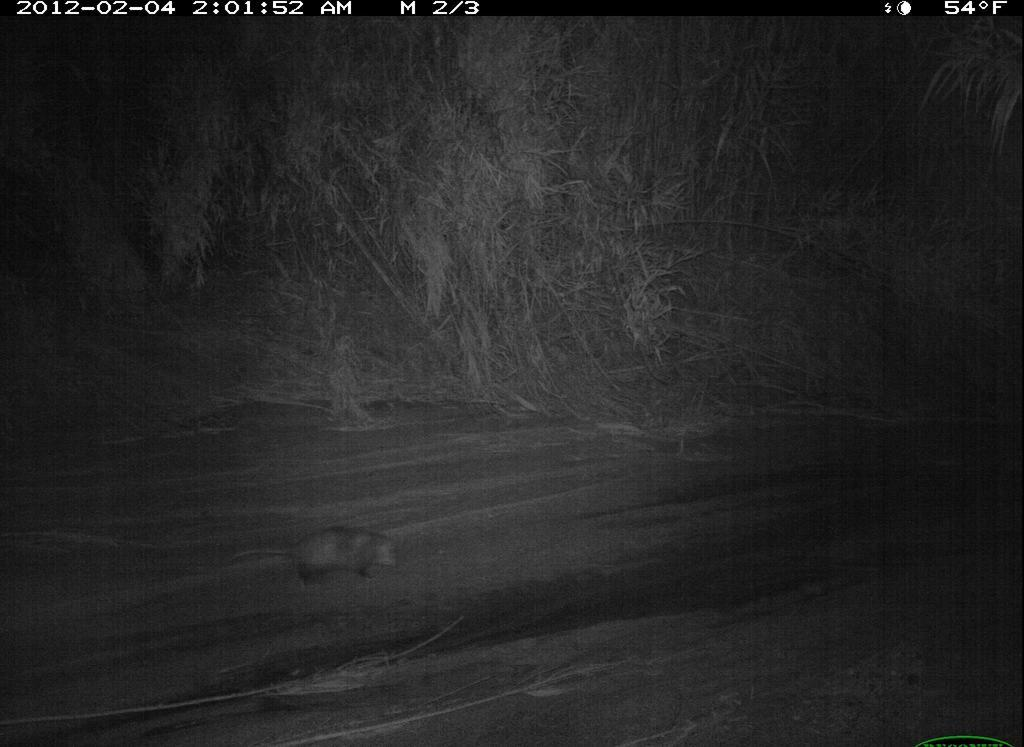opossum: (231, 520, 408, 592)
